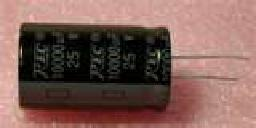Electrolytic-capacitor: (15, 21, 246, 112)
